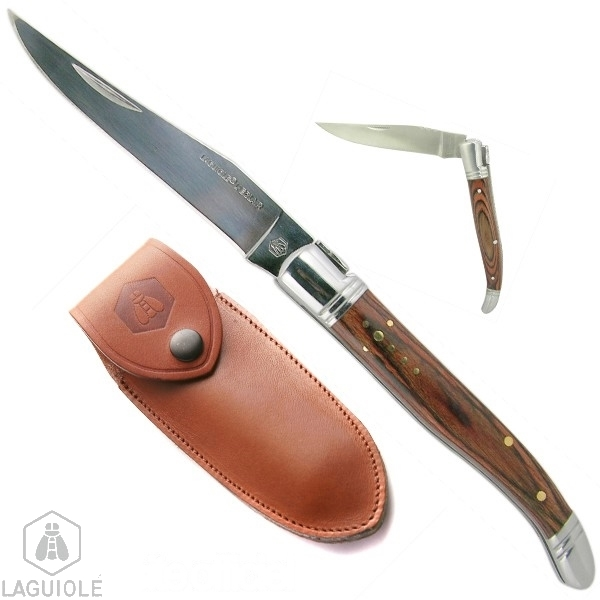knief: (7, 8, 595, 582)
